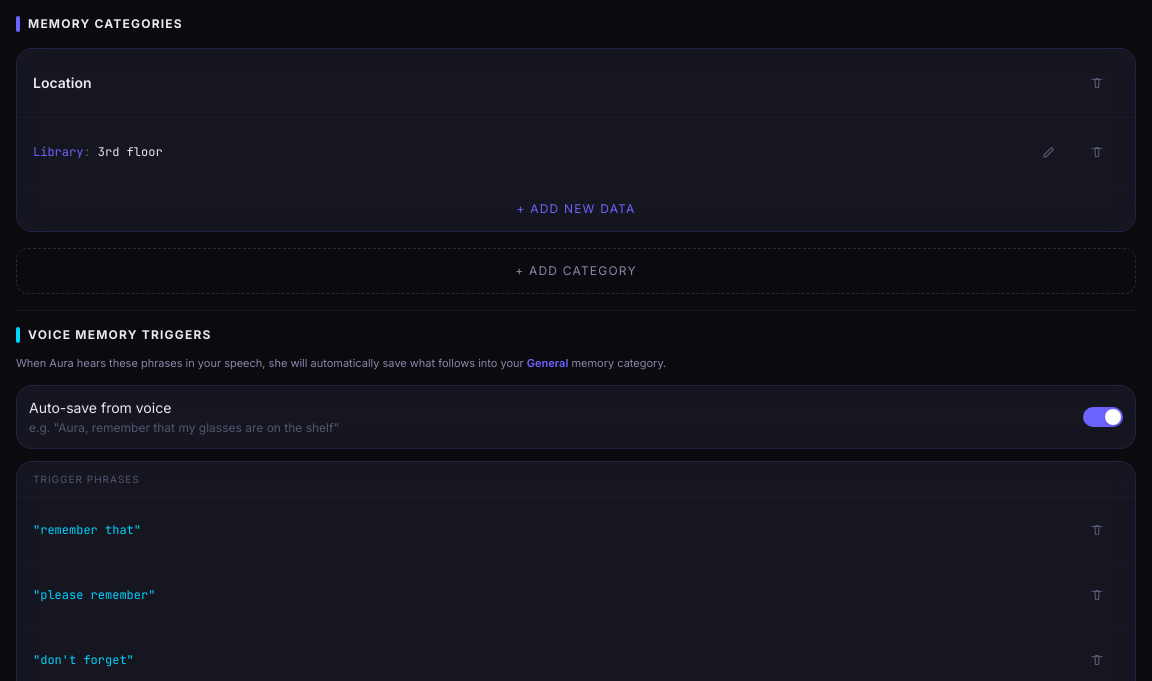
Test: PersonalMemoryTab › shows inline form when + Add New Data clicked
Step 1. Click the button "+ Add New Data" → x=576, y=209, box [17, 187, 1135, 231]
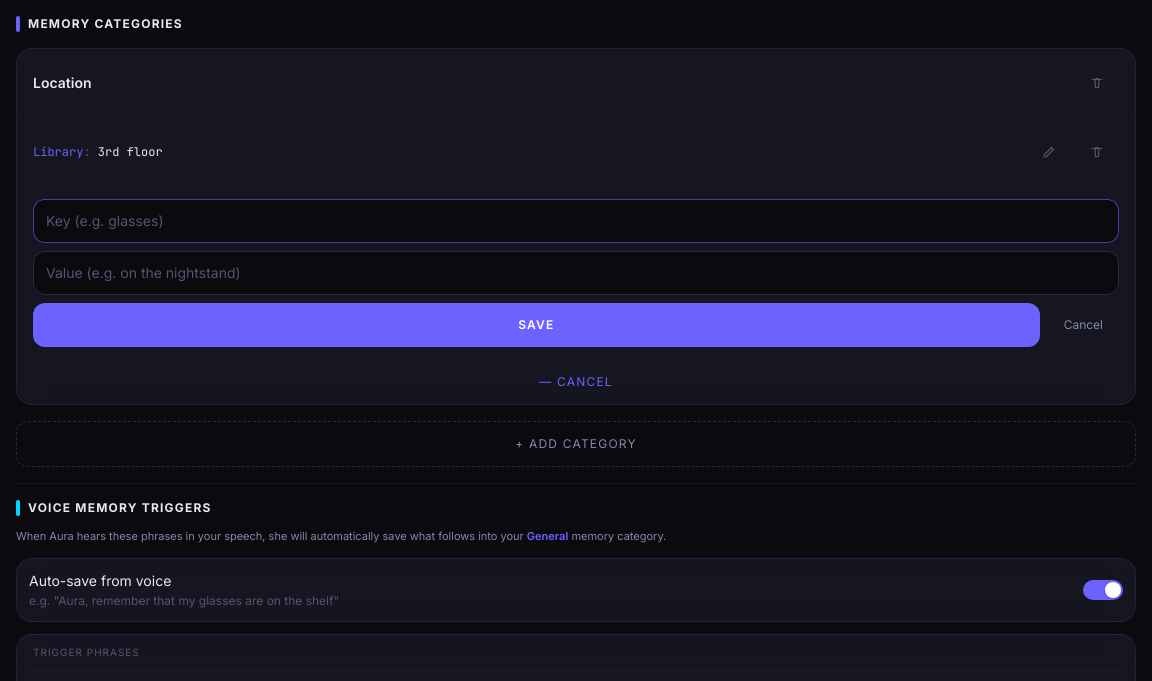
Check: the field with placeholder "Key (e.g. glasses)" is shown, box [33, 199, 1119, 243]
Check: the field with placeholder "Value (e.g. on the nightstand)" is shown, box [33, 251, 1119, 295]
